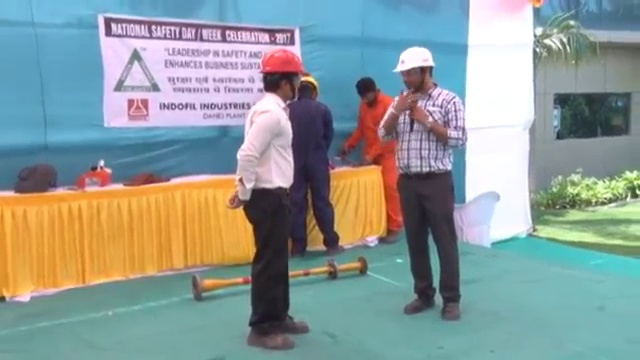helmet: (257, 48, 311, 76), (390, 44, 439, 73), (299, 75, 319, 93)
helmet_off: (354, 74, 381, 109)
helmet_on: (255, 47, 313, 106), (390, 43, 440, 102), (297, 73, 321, 102)
person: (228, 48, 314, 350), (377, 44, 465, 321), (286, 75, 347, 261), (342, 76, 405, 245)
